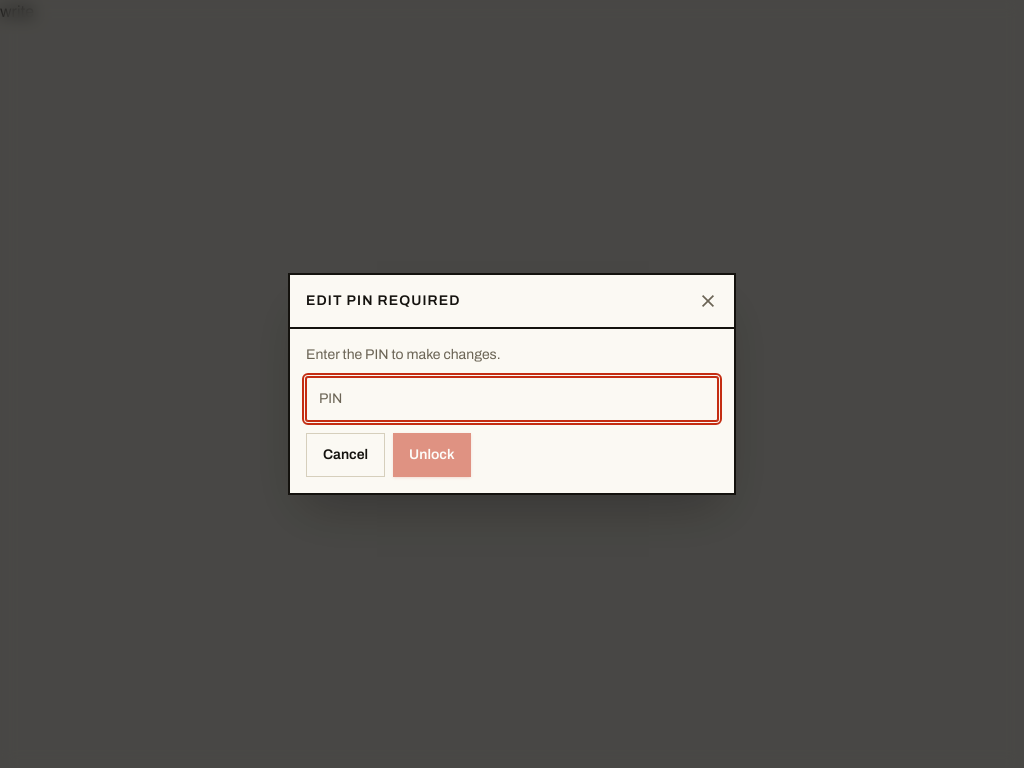
PinPromptModal › says to wait, and runs nothing, while wrong guesses have the event throttled
Earlier steps of the test are not shown.
Type "1234" into the password field with placeholder "PIN" at (512, 399), box x1=306 y1=377 x2=718 y2=421
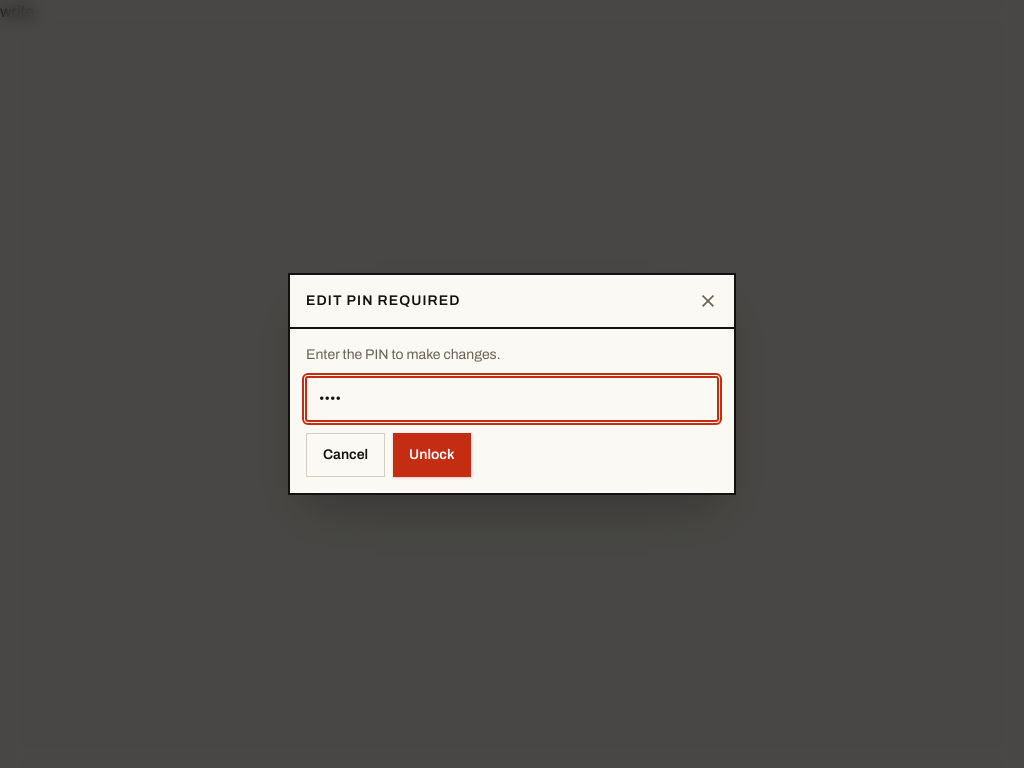
Click the button "Unlock" at (432, 455), box x1=393 y1=433 x2=471 y2=477
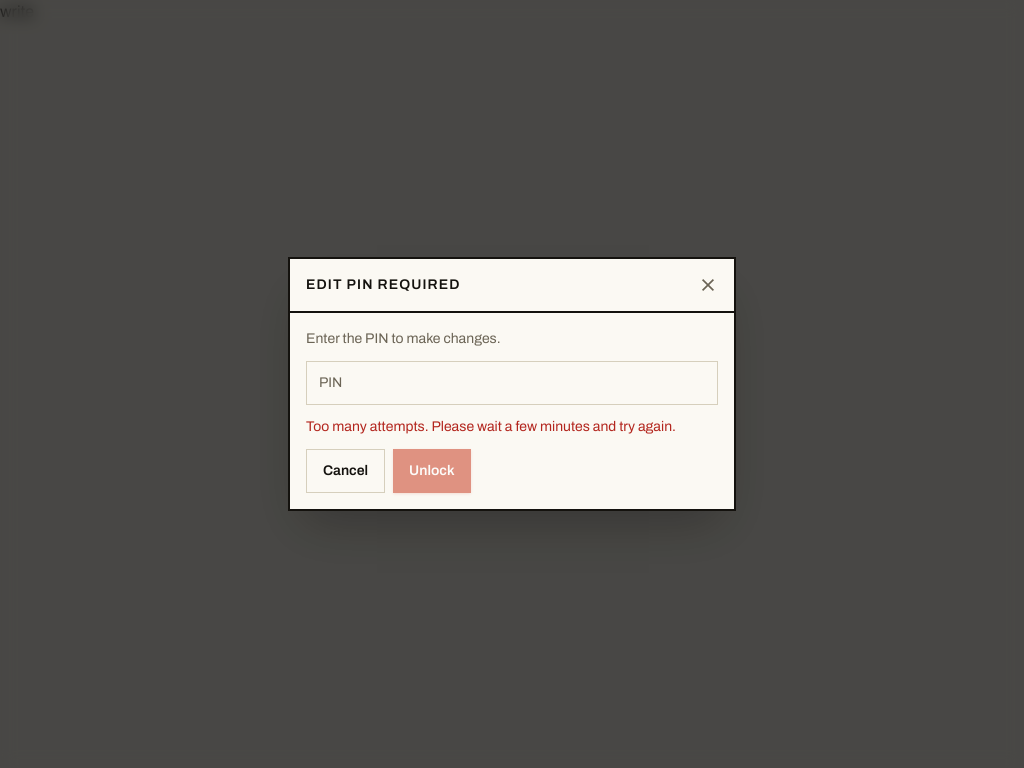
expect the text "Too many attempts. Please wait a few minutes and try again." is shown: met, box x1=306 y1=417 x2=718 y2=437
